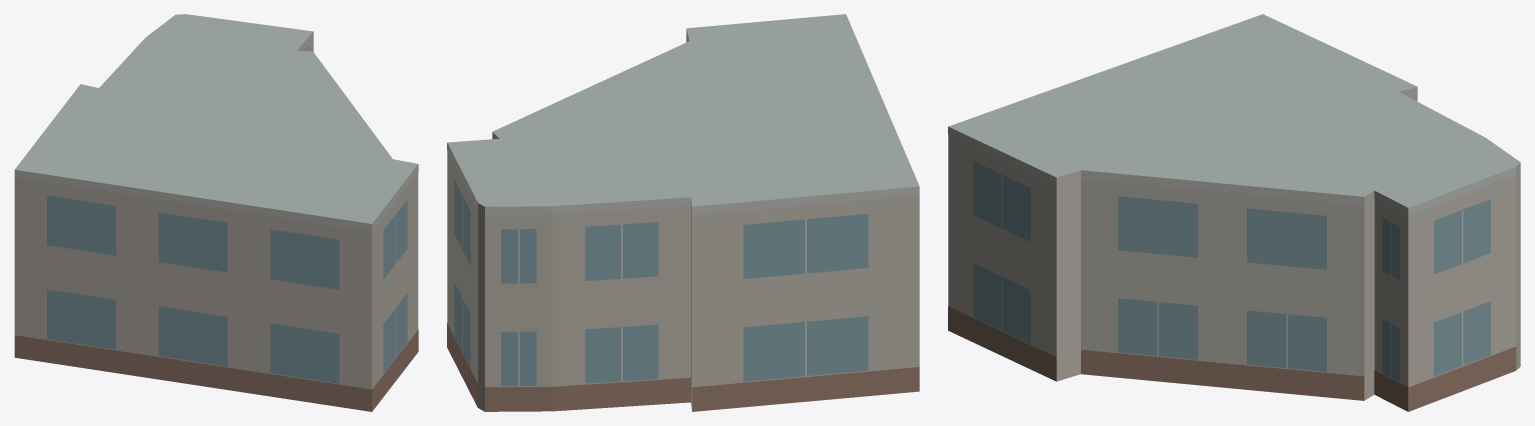
The model's file is survey-upis-32906743.glb.
The picture shows the model from 3 angles, left to right: view 1: azimuth 30°, elevation 25°; view 2: azimuth 150°, elevation 25°; view 3: azimuth 270°, elevation 25°; orthographic projection. The views are drawn at different scales.
Visible parts, largest first — view 1: survey-upis-32906743.tmp; view 2: survey-upis-32906743.tmp; view 3: survey-upis-32906743.tmp.
Boxes of the visible parts, x1,y1,x2,y2 form: survey-upis-32906743.tmp: (14,14,418,411); survey-upis-32906743.tmp: (447,14,919,411); survey-upis-32906743.tmp: (948,14,1520,411).
Bounding box in the file's own units: 12.44 × 6.1 × 15.53.
